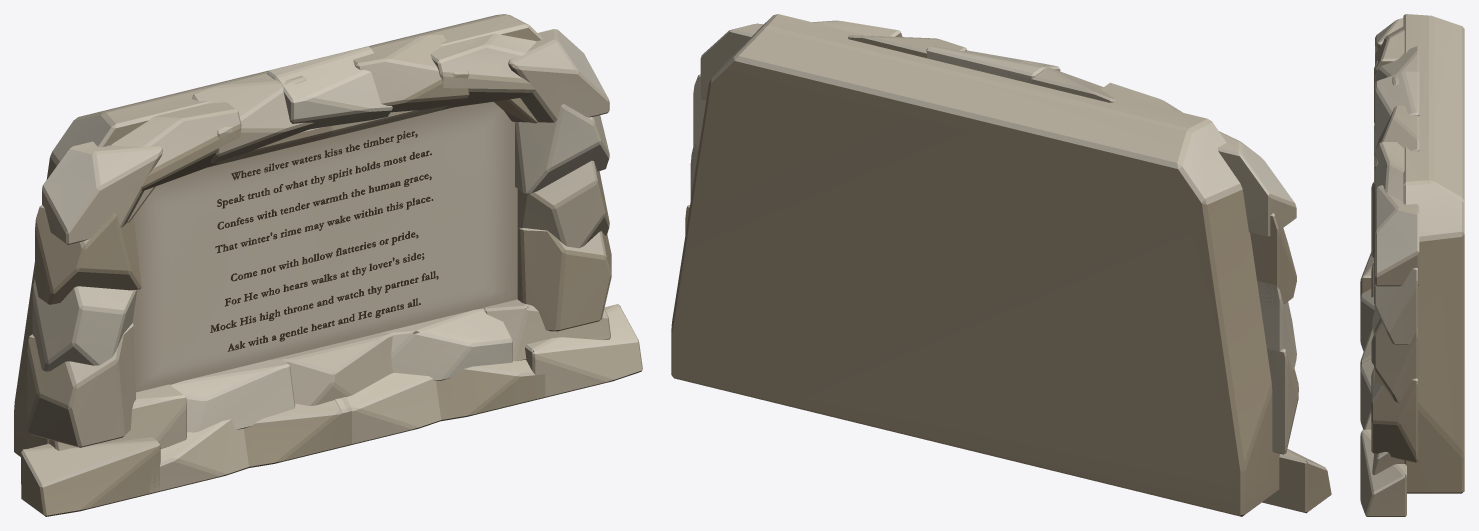
Rendered from site3-wall-exposed.glb.
3 views of the same model, side by side, from view 1: azimuth 30°, elevation 25°; view 2: azimuth 150°, elevation 25°; view 3: azimuth 270°, elevation 25° (orthographic). The views are drawn at different scales.
Parts seen in each view (by area): view 1: Monument_site3; view 2: Monument_site3; view 3: Monument_site3.
Part boxes in pixels (bbox=[...]): Monument_site3: bbox=[14, 14, 642, 516]; Monument_site3: bbox=[671, 14, 1331, 516]; Monument_site3: bbox=[1360, 14, 1464, 516].
Bounding box in the file's own units: 4.74 × 2.74 × 0.85.
